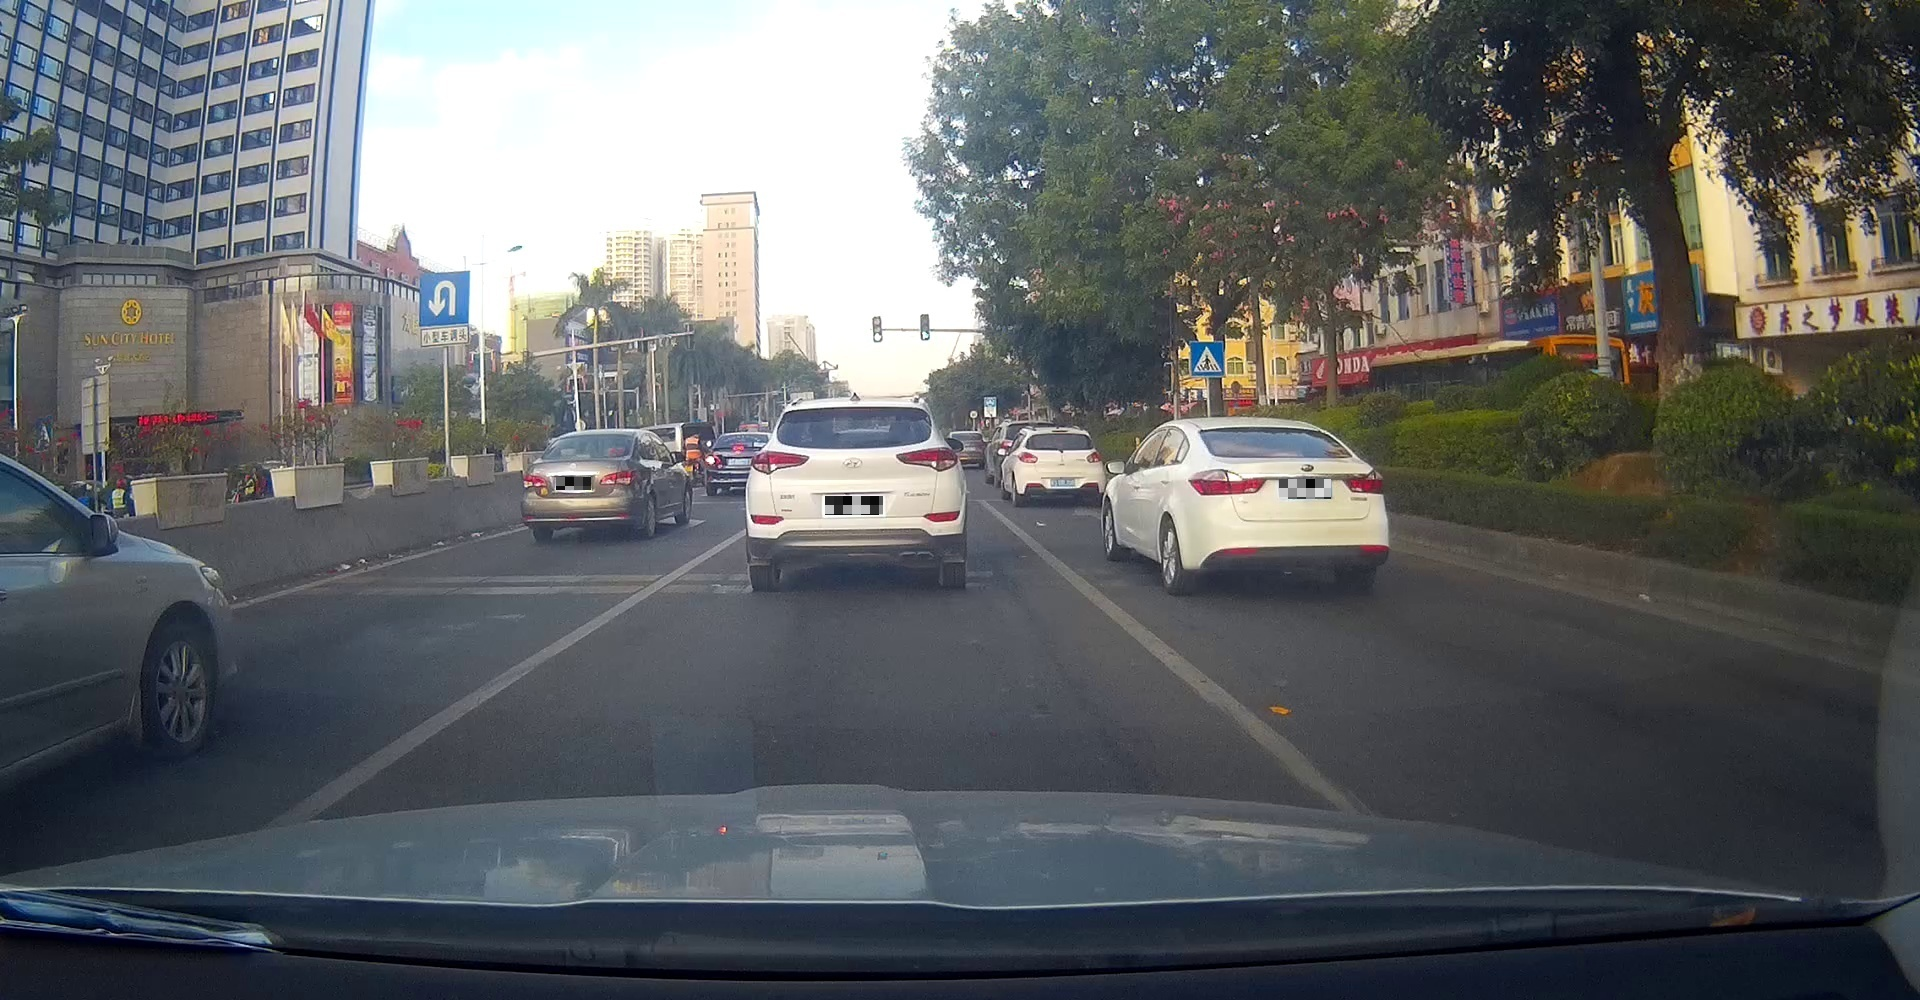L_light: (1189, 468, 1267, 496), (750, 449, 810, 475), (521, 472, 547, 489), (1017, 451, 1037, 463)
R_light: (895, 445, 957, 472), (1342, 468, 1385, 494), (599, 468, 637, 485), (1086, 451, 1102, 463)
T_light: (836, 407, 871, 414), (1256, 426, 1283, 431), (571, 454, 590, 459), (1053, 434, 1067, 437)
day-no: (745, 398, 966, 590), (1183, 418, 1390, 596), (521, 429, 640, 541), (1015, 426, 1105, 506)
plate_1: (556, 477, 590, 490)
plate_2: (825, 496, 883, 515)
plate_3: (1279, 478, 1331, 499)
